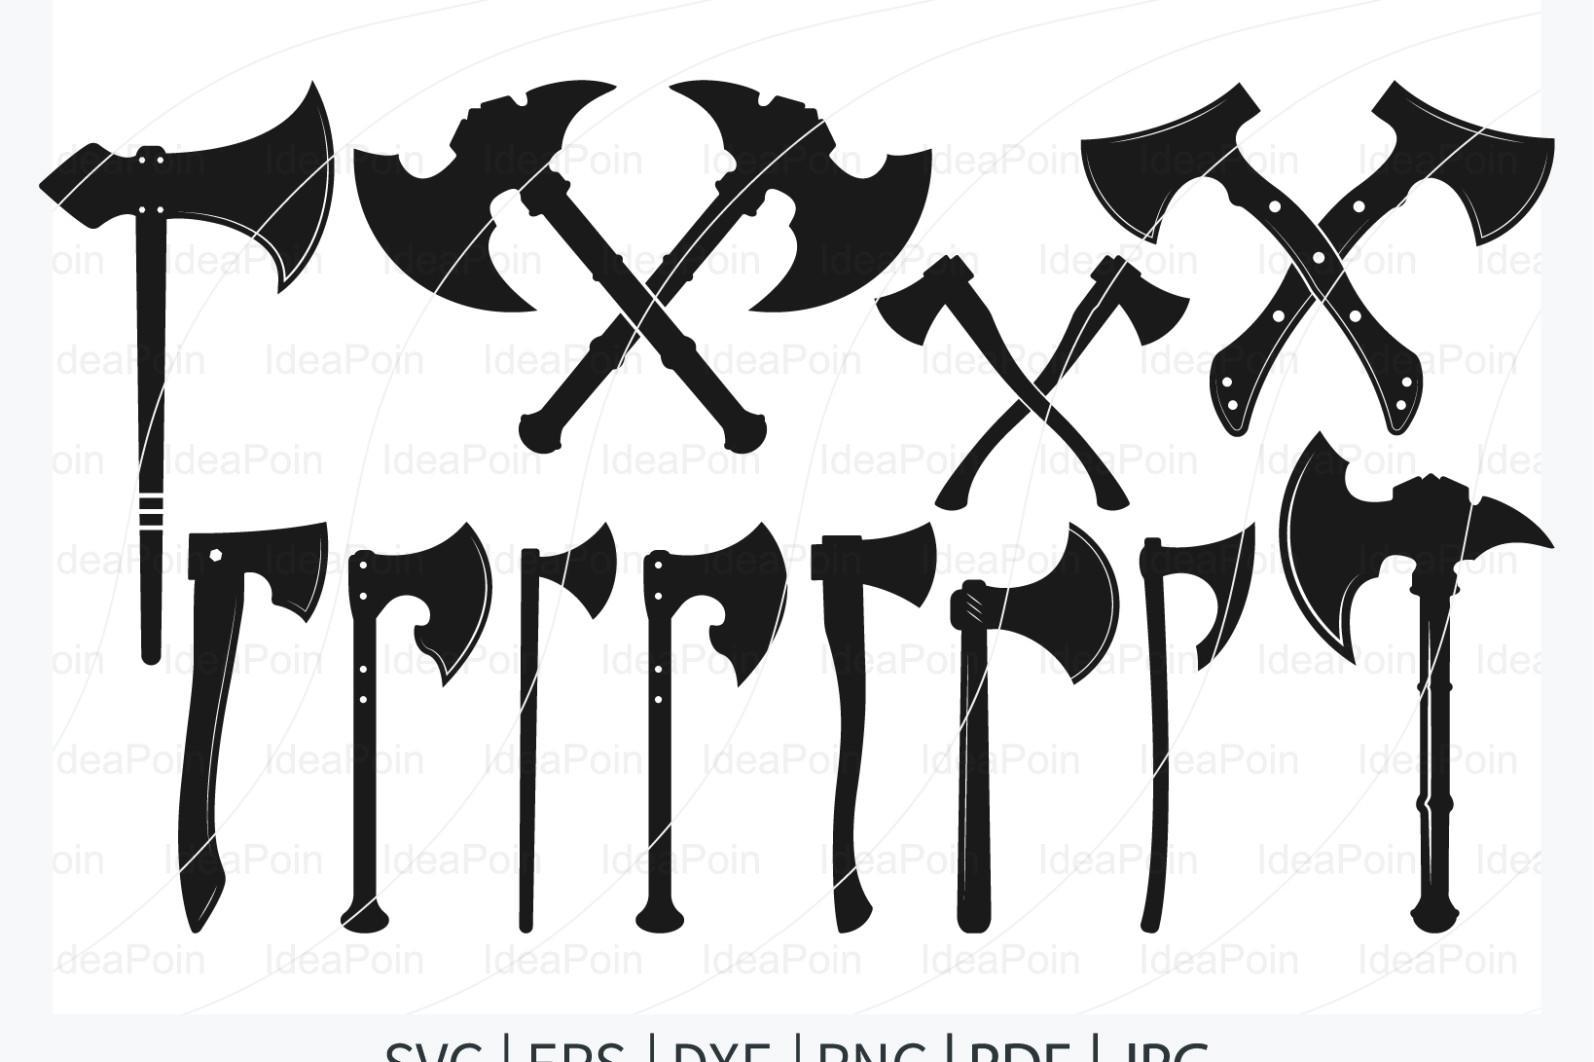machado: (40, 84, 333, 664), (354, 79, 764, 452), (1279, 433, 1551, 930), (1081, 85, 1422, 433), (950, 525, 1119, 930), (646, 79, 932, 312), (876, 257, 1127, 508), (177, 523, 328, 932), (343, 524, 491, 932), (636, 524, 785, 932), (811, 524, 936, 932), (1139, 524, 1254, 932), (1319, 82, 1553, 254), (519, 524, 616, 932), (1035, 256, 1186, 394)
